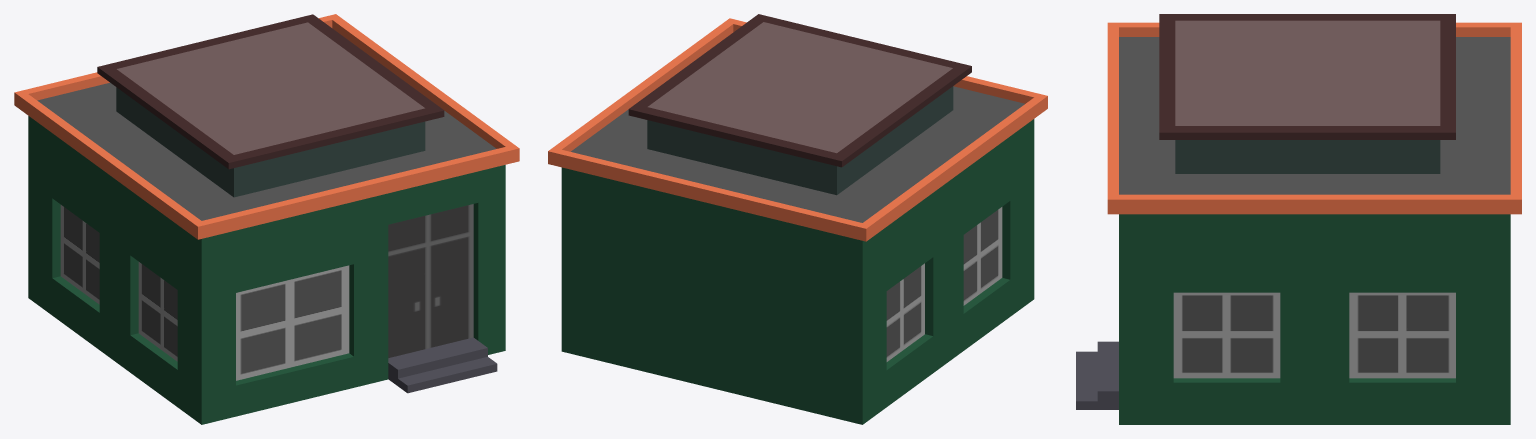
The model's file is building6b.FBX.
3 renders of one model, left to right at view 1: azimuth 30°, elevation 25°; view 2: azimuth 150°, elevation 25°; view 3: azimuth 270°, elevation 25°, orthographic. The views are drawn at different scales.
Visible parts, largest first — view 1: building6b; view 2: building6b; view 3: building6b.
Part boxes in pixels (x1=…): building6b: x1=14, y1=14, x2=519, y2=424; building6b: x1=548, y1=14, x2=1047, y2=424; building6b: x1=1076, y1=14, x2=1521, y2=424.
Size of the model in its own units: 13.86 by 9.8 by 14.76.
